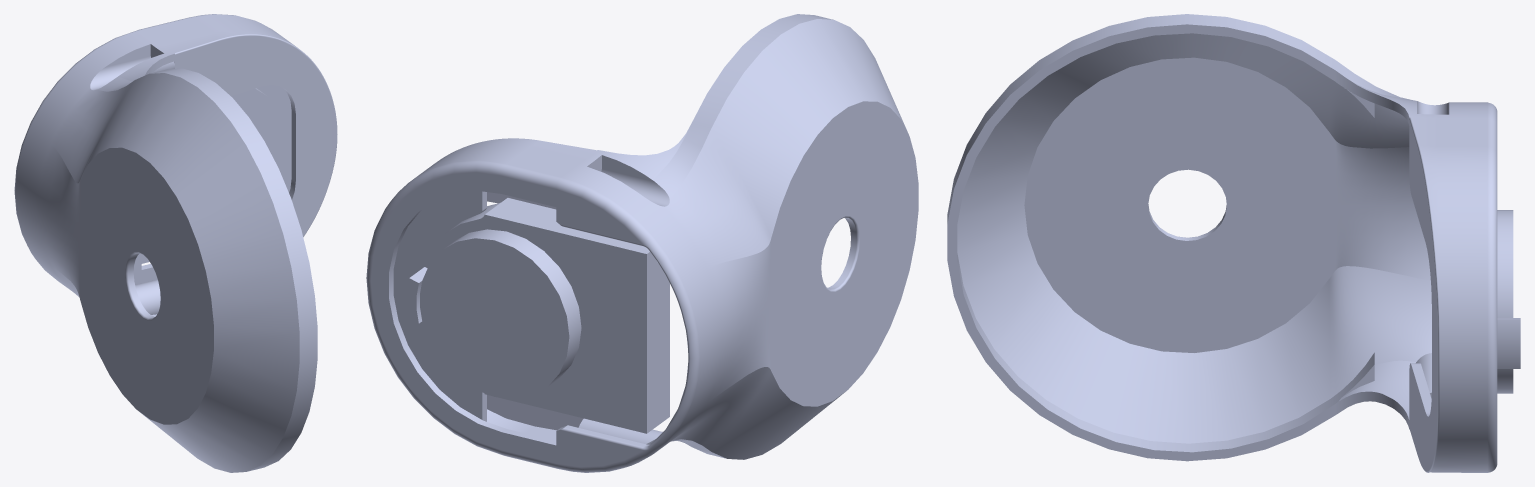
3 views of the same model, side by side, from view 1: azimuth 30°, elevation 25°; view 2: azimuth 150°, elevation 25°; view 3: azimuth 270°, elevation 25° (orthographic). The views are drawn at different scales.
Visible parts, largest first — view 1: Body1; view 2: Body1; view 3: Body1.
Boxes of the visible parts, x1,y1,x2,y2 form: Body1: (14,14,337,472); Body1: (366,14,918,472); Body1: (947,14,1520,472).
Size of the model in its own units: 0.0832 by 0.098 by 0.1165.
